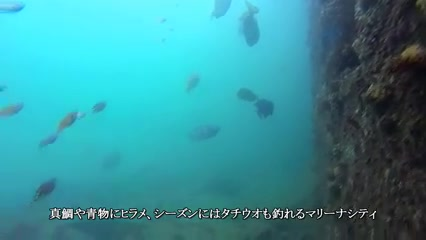smallfish: (248, 98, 279, 121)
